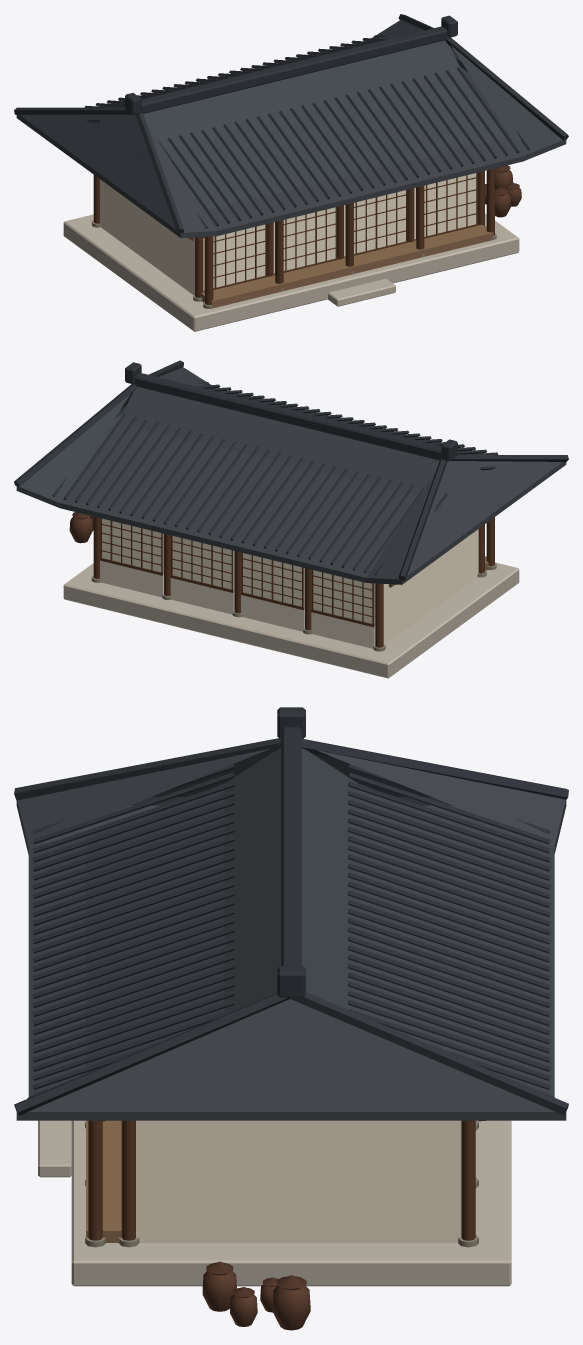
File: hanok.glb
3 renders of one model, top to bottom at view 1: azimuth 30°, elevation 25°; view 2: azimuth 150°, elevation 25°; view 3: azimuth 270°, elevation 25°, orthographic. The views are drawn at different scales.
Parts seen in each view (by area): view 1: hanok; view 2: hanok; view 3: hanok.
Boxes of the visible parts, x1=… form: hanok: x1=14, y1=14, x2=568, y2=331; hanok: x1=14, y1=360, x2=568, y2=678; hanok: x1=14, y1=707, x2=568, y2=1330.
Size of the model in its own units: 16.85 by 7.25 by 11.61.
